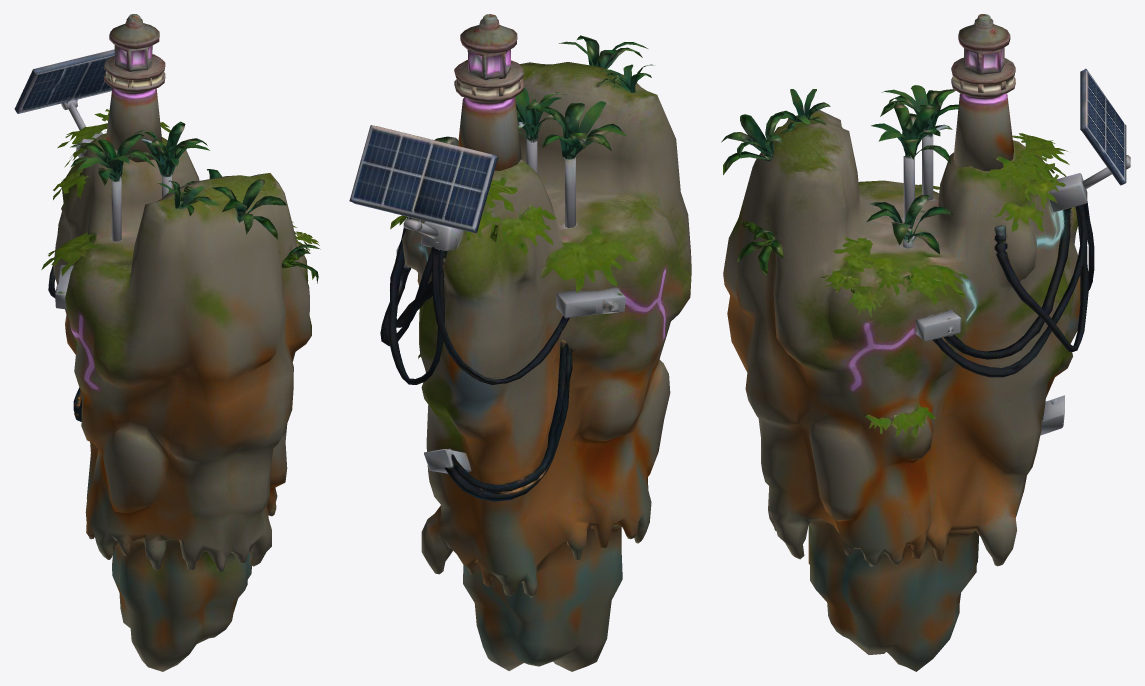
The model's file is karst_sea_stack.glb.
The picture shows the model from 3 angles, left to right: view 1: azimuth 30°, elevation 25°; view 2: azimuth 150°, elevation 25°; view 3: azimuth 270°, elevation 25°; orthographic projection. The views are drawn at different scales.
Visible parts, largest first — view 1: Body; view 2: Body; view 3: Body.
Part boxes in pixels (x1,y1,x2,y2): Body: (14,14,320,671); Body: (349,14,691,671); Body: (721,14,1130,671).
Bounding box in the file's own units: 13.49 × 35 × 20.07.
Materials: 1 (1 with a texture image).
